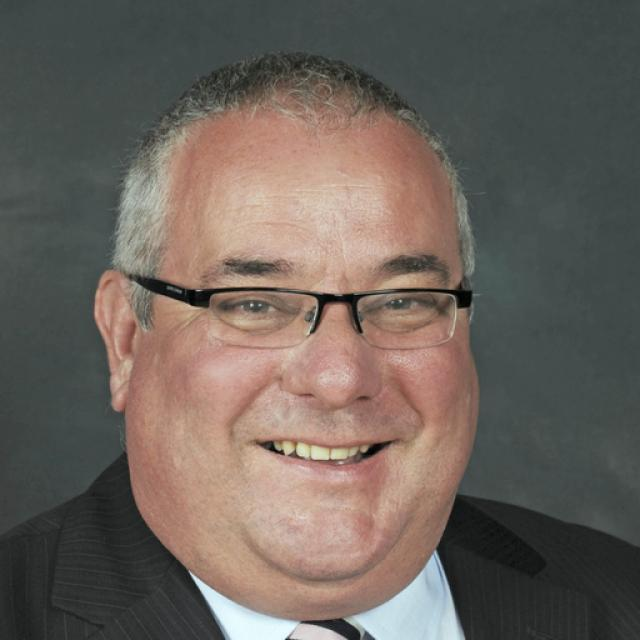0_rostro_limpio: (95, 52, 479, 581)
